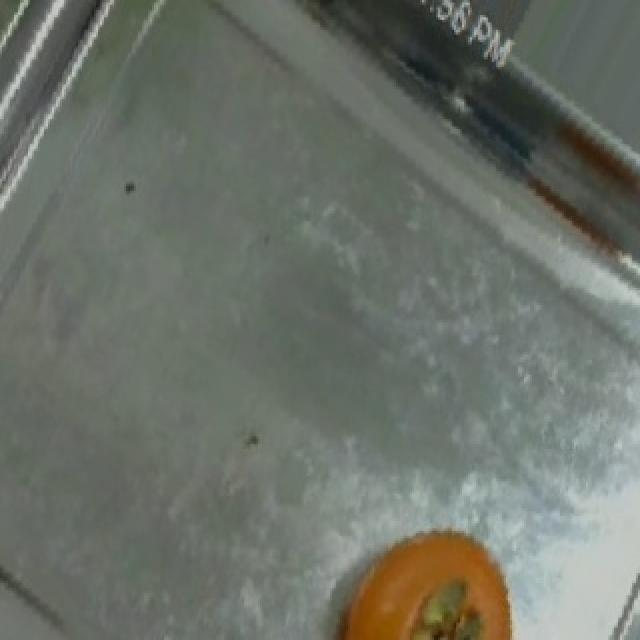Fruit: (316, 511, 540, 640)
